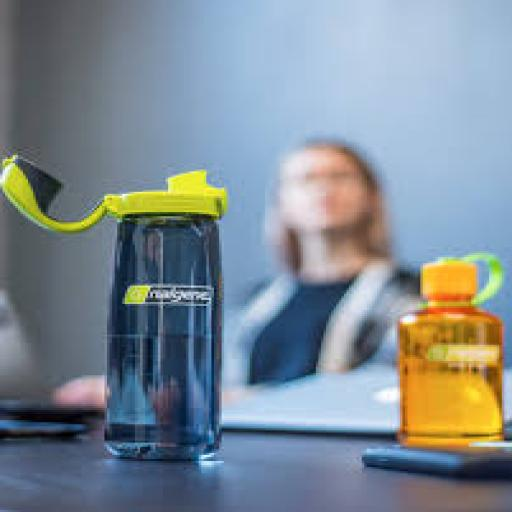blue-bottle: (3, 157, 224, 457)
